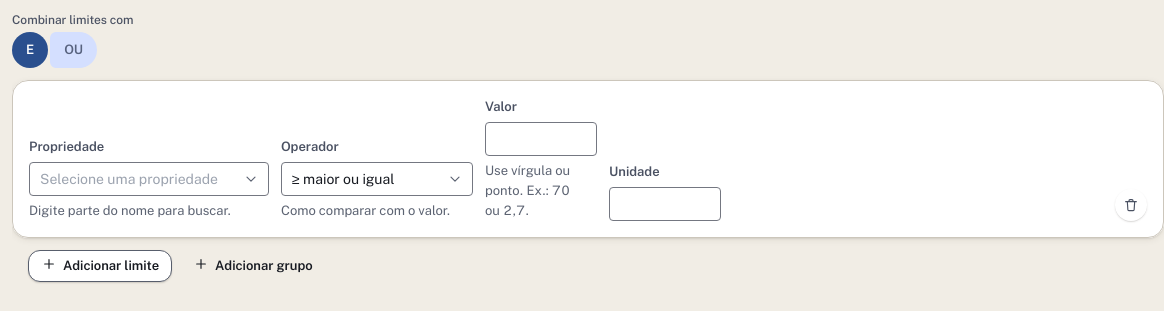
Test: restrição lida como frase, com a unidade à vista (D-85) › finds a property without the accent and sets the unit it is read in
Type "modulo" into the dropdown labelled "Propriedade" at (149, 178), box [29,162,269,196]
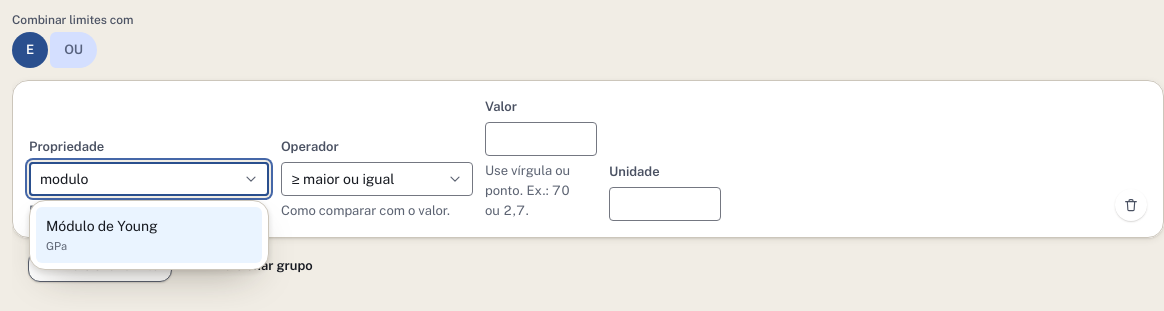
Press Enter
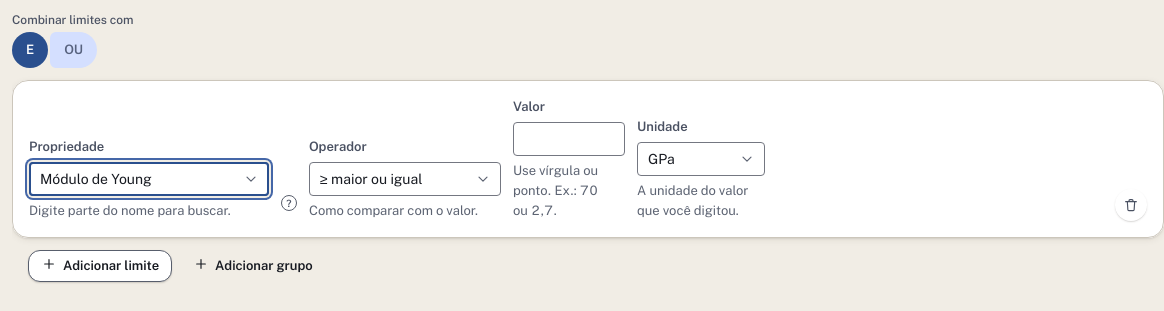
Result: the dropdown labelled "Unidade" shows "GPa" at [637,142,765,176]
